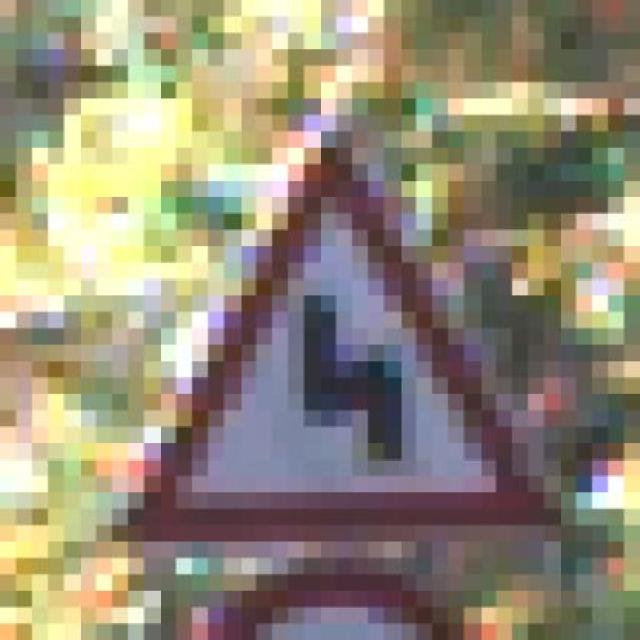Left Zig Zag Traffic: (112, 98, 576, 574)
